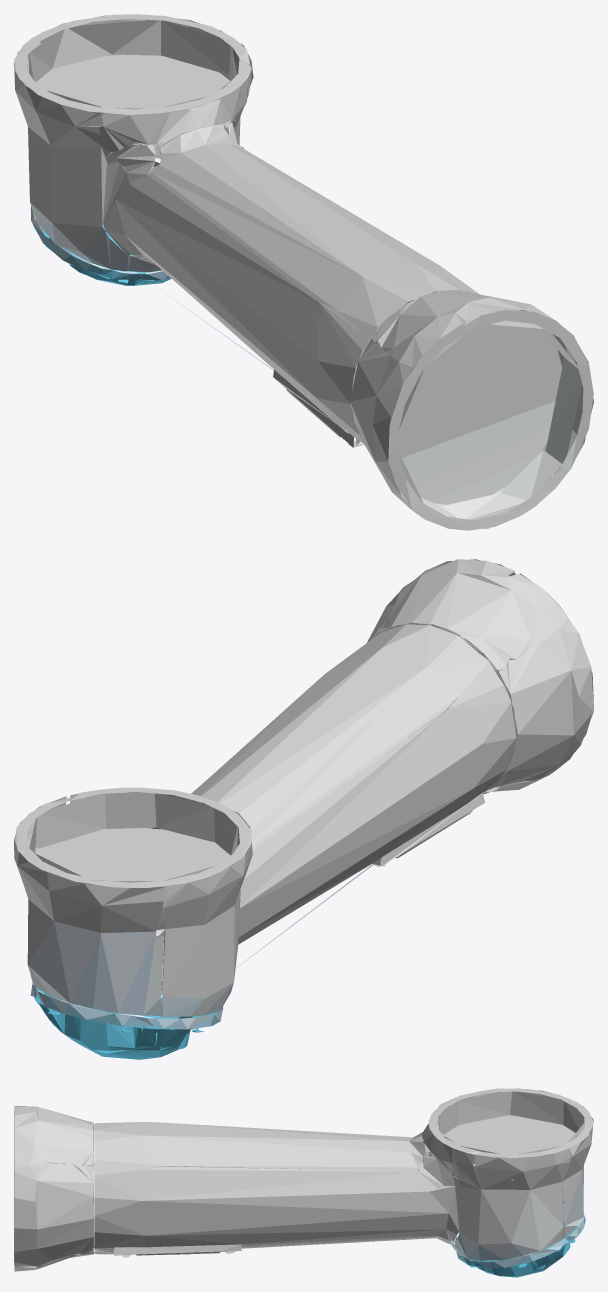
File: MotomanHC10DTPLink4.dae
3 renders of one model, top to bottom at view 1: azimuth 30°, elevation 25°; view 2: azimuth 150°, elevation 25°; view 3: azimuth 270°, elevation 25°, orthographic. The views are drawn at different scales.
Parts seen in each view (by area): view 1: MotomanHC10DTPLink4; view 2: MotomanHC10DTPLink4; view 3: MotomanHC10DTPLink4.
Boxes of the visible parts, x1,y1,x2,y2 form: MotomanHC10DTPLink4: (14, 14, 593, 530); MotomanHC10DTPLink4: (14, 559, 593, 1059); MotomanHC10DTPLink4: (14, 1088, 593, 1277).
Bounding box in the file's own units: 0.1267 × 0.4437 × 0.1325.
